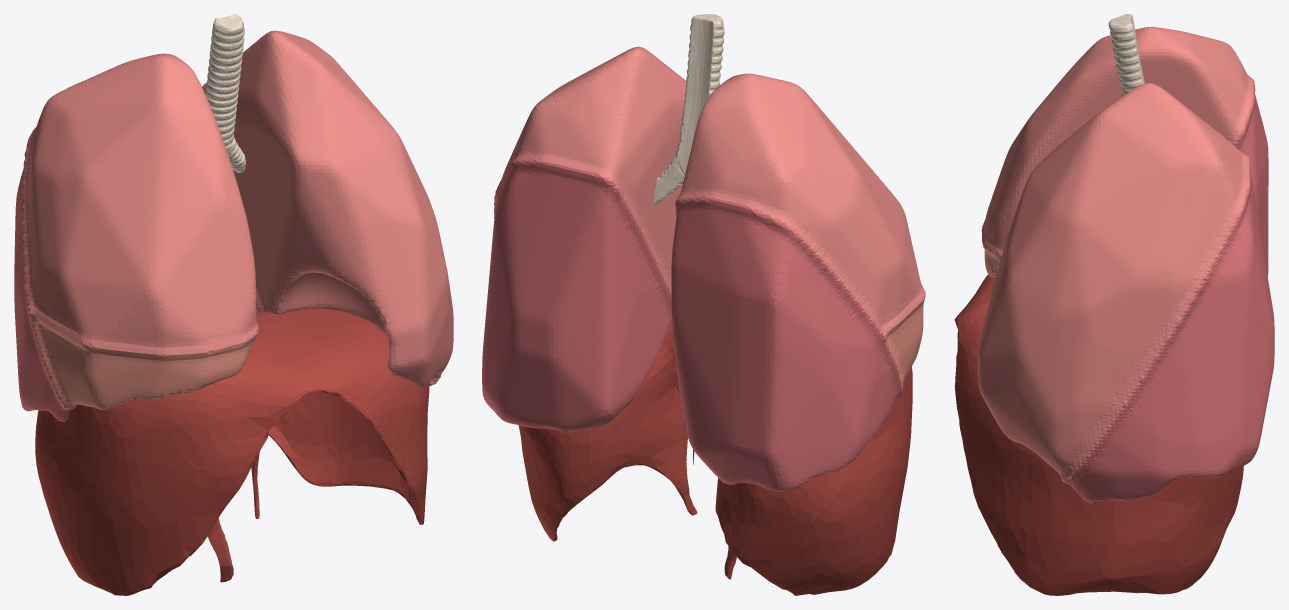
Rendered from lungs-a.glb.
The picture shows the model from 3 angles, left to right: view 1: azimuth 30°, elevation 25°; view 2: azimuth 150°, elevation 25°; view 3: azimuth 270°, elevation 25°; orthographic projection. The views are drawn at different scales.
Visible parts, largest first — view 1: diaphragm, lobe_ru, lobe_lu, lobe_rm, lobe_rl, trachea, bronchial_tree; view 2: lobe_rl, lobe_ll, diaphragm, lobe_ru, lobe_lu, trachea, bronchial_tree, lobe_rm, main_bronchus_l; view 3: lobe_lu, diaphragm, lobe_ll, lobe_ru, lobe_rl, trachea, bronchial_tree.
Part boxes in pixels (x1,y1,x2,y2): diaphragm: [35, 308, 429, 595]; lobe_ru: [22, 53, 258, 355]; lobe_lu: [202, 30, 453, 387]; lobe_rm: [28, 313, 257, 409]; lobe_rl: [14, 135, 70, 422]; trachea: [205, 14, 244, 153]; bronchial_tree: [206, 14, 245, 172]; lobe_rl: [671, 196, 902, 491]; lobe_ll: [482, 159, 672, 431]; diaphragm: [518, 322, 912, 595]; lobe_ru: [676, 73, 925, 335]; lobe_lu: [500, 46, 686, 293]; trachea: [672, 14, 724, 175]; bronchial_tree: [654, 14, 724, 205]; lobe_rm: [883, 296, 925, 388]; main_bronchus_l: [653, 161, 684, 204]; lobe_lu: [978, 83, 1249, 482]; diaphragm: [954, 274, 1243, 595]; lobe_ll: [1064, 157, 1274, 503]; lobe_ru: [981, 26, 1253, 256]; lobe_rl: [1234, 79, 1268, 276]; trachea: [1108, 14, 1144, 95]; bronchial_tree: [1108, 15, 1144, 94].
Bounding box in the file's own units: 0.2974 × 0.4097 × 0.2179.
